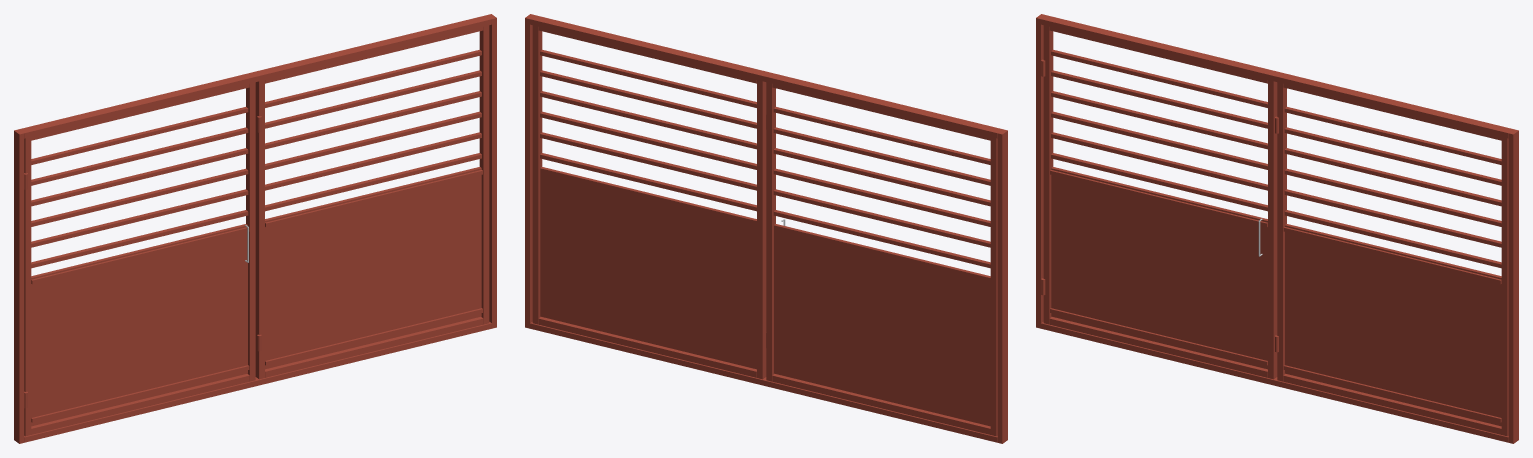
File: terracotta-grille-and-solid-panel-gate-08.glb
The picture shows the model from 3 angles, left to right: view 1: azimuth 30°, elevation 25°; view 2: azimuth 150°, elevation 25°; view 3: azimuth 330°, elevation 25°; orthographic projection.
Parts seen in each view (by area): view 1: Solid lower panel, Upper grille bars, Gate perimeter, Leaf frame 1, Leaf frame 0, Panel border; view 2: Solid lower panel, Upper grille bars, Gate perimeter, Leaf frame 1, Leaf frame 0; view 3: Solid lower panel, Upper grille bars, Gate perimeter, Leaf frame 0, Leaf frame 1, Panel border.
Part boxes in pixels (x1=…): Solid lower panel: x1=31, y1=167, x2=481, y2=426; Upper grille bars: x1=31, y1=49, x2=481, y2=268; Gate perimeter: x1=14, y1=14, x2=496, y2=443; Leaf frame 1: x1=255, y1=25, x2=489, y2=379; Leaf frame 0: x1=24, y1=82, x2=255, y2=436; Panel border: x1=31, y1=170, x2=482, y2=422; Solid lower panel: x1=540, y1=167, x2=990, y2=426; Upper grille bars: x1=540, y1=49, x2=990, y2=268; Gate perimeter: x1=525, y1=14, x2=1007, y2=443; Leaf frame 1: x1=532, y1=25, x2=766, y2=379; Leaf frame 0: x1=766, y1=82, x2=997, y2=436; Solid lower panel: x1=1051, y1=167, x2=1501, y2=426; Upper grille bars: x1=1051, y1=49, x2=1501, y2=268; Gate perimeter: x1=1036, y1=14, x2=1518, y2=443; Leaf frame 0: x1=1043, y1=25, x2=1277, y2=379; Leaf frame 1: x1=1277, y1=82, x2=1508, y2=436; Panel border: x1=1050, y1=170, x2=1501, y2=422.
Bounding box in the file's own units: 3.27 × 2.02 × 0.1005.
